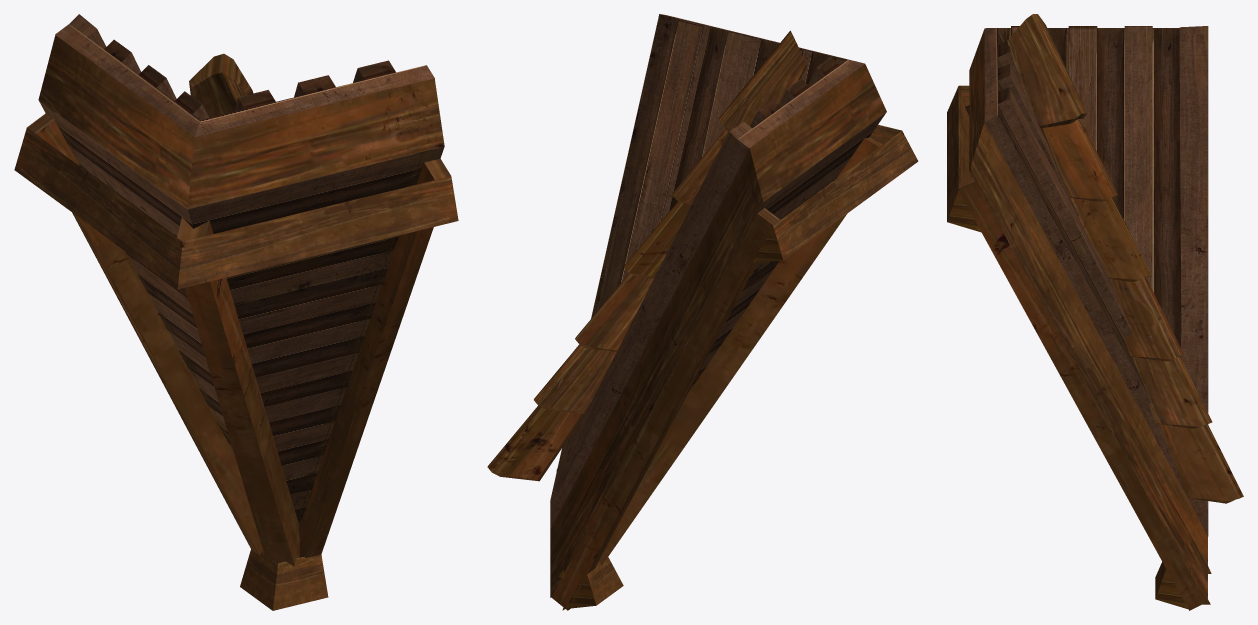
3 views of the same model, side by side, from view 1: azimuth 30°, elevation 25°; view 2: azimuth 150°, elevation 25°; view 3: azimuth 270°, elevation 25° (orthographic). The views are drawn at different scales.
Visible parts, largest first — view 1: SM_BB_T2_Roof_Large_Valley_Steep_LOD0; view 2: SM_BB_T2_Roof_Large_Valley_Steep_LOD0; view 3: SM_BB_T2_Roof_Large_Valley_Steep_LOD0.
Boxes of the visible parts, x1,y1,x2,y2 form: SM_BB_T2_Roof_Large_Valley_Steep_LOD0: (14,14,458,610); SM_BB_T2_Roof_Large_Valley_Steep_LOD0: (487,14,918,610); SM_BB_T2_Roof_Large_Valley_Steep_LOD0: (947,14,1243,610).
Bounding box in the file's own units: 2.14 × 3.95 × 2.02.
2 materials, 2 textured.
